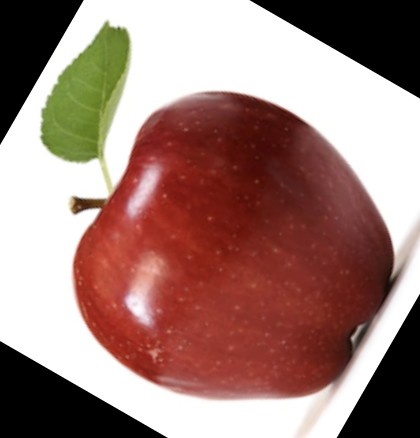fresh_apple: (68, 90, 394, 399)
